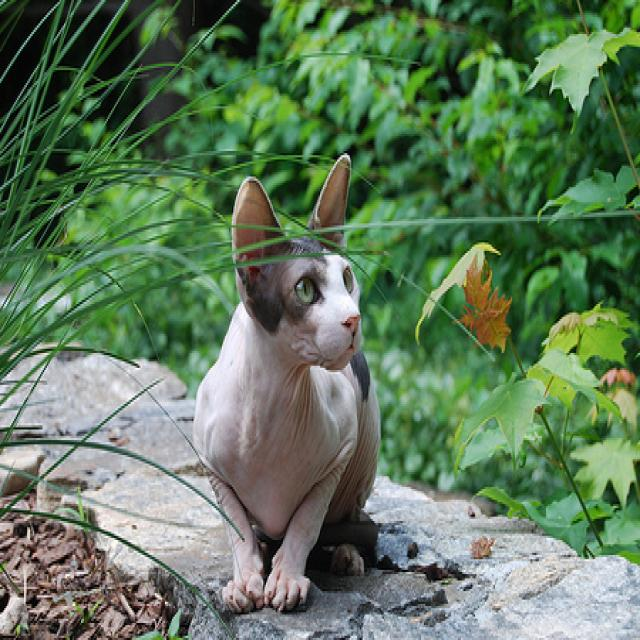Sphynx: (189, 151, 384, 616)
